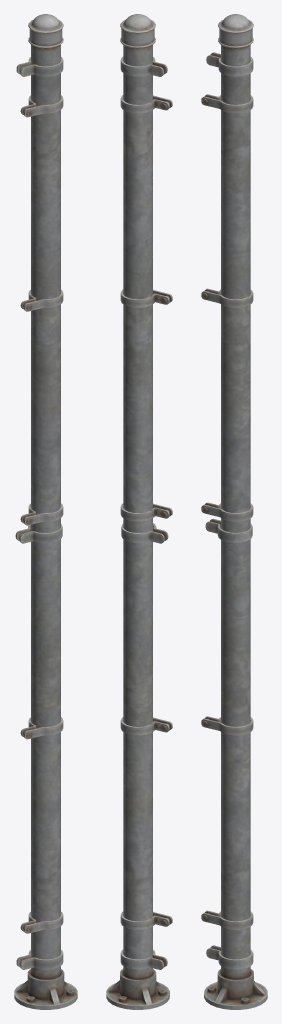
The model's file is tel_cit_bitis.gltf.
3 views of the same model, side by side, from view 1: azimuth 30°, elevation 25°; view 2: azimuth 150°, elevation 25°; view 3: azimuth 330°, elevation 25° (orthographic).
Visible parts, largest first — view 1: tel_cit_bitis; view 2: tel_cit_bitis; view 3: tel_cit_bitis.
Part boxes in pixels (box(x1,y1,x2,y2)): tel_cit_bitis: box(14, 14, 77, 1009); tel_cit_bitis: box(106, 14, 172, 1009); tel_cit_bitis: box(201, 14, 267, 1009).
Size of what is drawn, in the model's own units: 0.1492 by 2.52 by 0.1483.
1 material, 1 textured.
